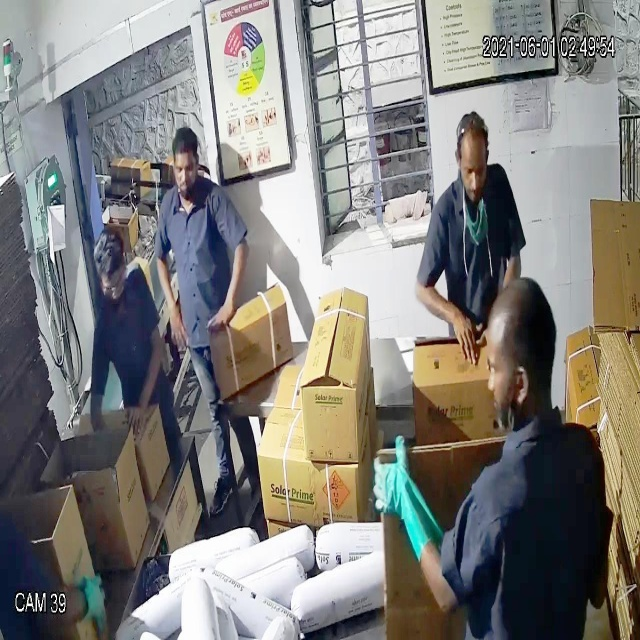Gafas: (98, 273, 134, 309)
Sin_gafas: (478, 346, 533, 398), (450, 146, 495, 191), (164, 150, 203, 184)
